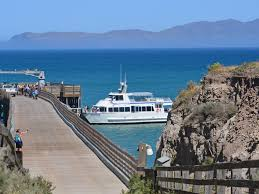boat: (84, 64, 175, 126)
